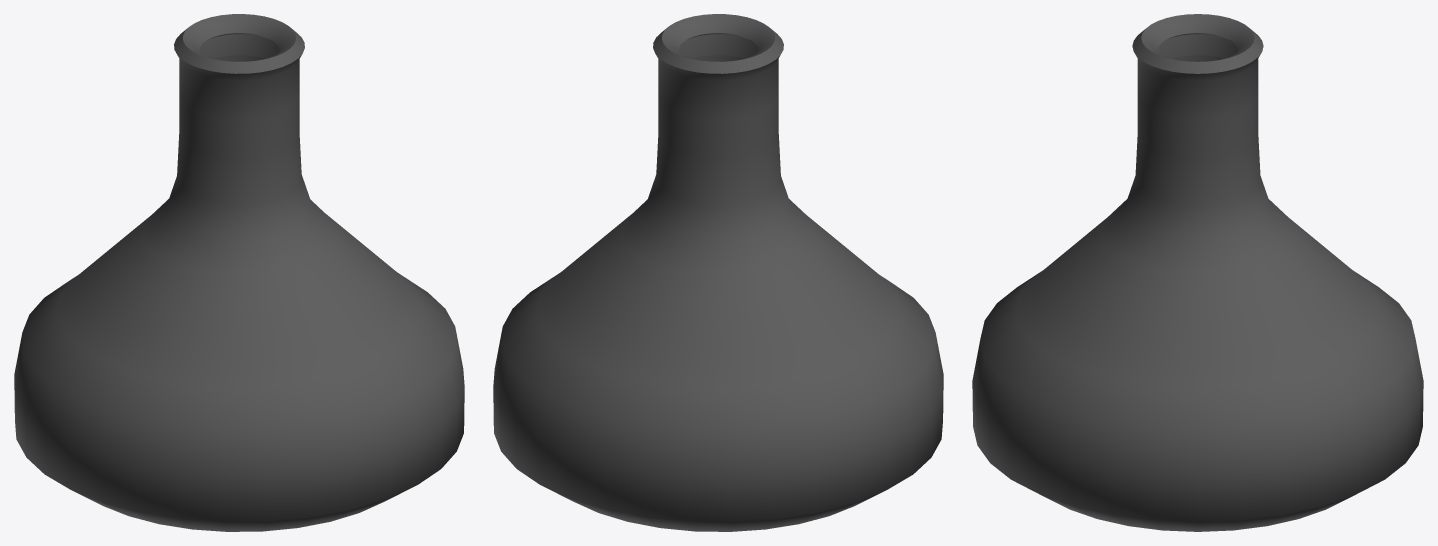
The model's file is static.glb.
The picture shows the model from 3 angles, left to right: view 1: azimuth 30°, elevation 25°; view 2: azimuth 150°, elevation 25°; view 3: azimuth 270°, elevation 25°; orthographic projection.
Visible parts, largest first — view 1: Lathe_3; view 2: Lathe_3; view 3: Lathe_3.
Part boxes in pixels (x1,y1,x2,y2): Lathe_3: [14, 14, 464, 531]; Lathe_3: [493, 14, 943, 531]; Lathe_3: [972, 14, 1423, 531].
Size of the model in its own units: 0.6938 by 0.7088 by 0.6938.
2 materials, 2 textured.
